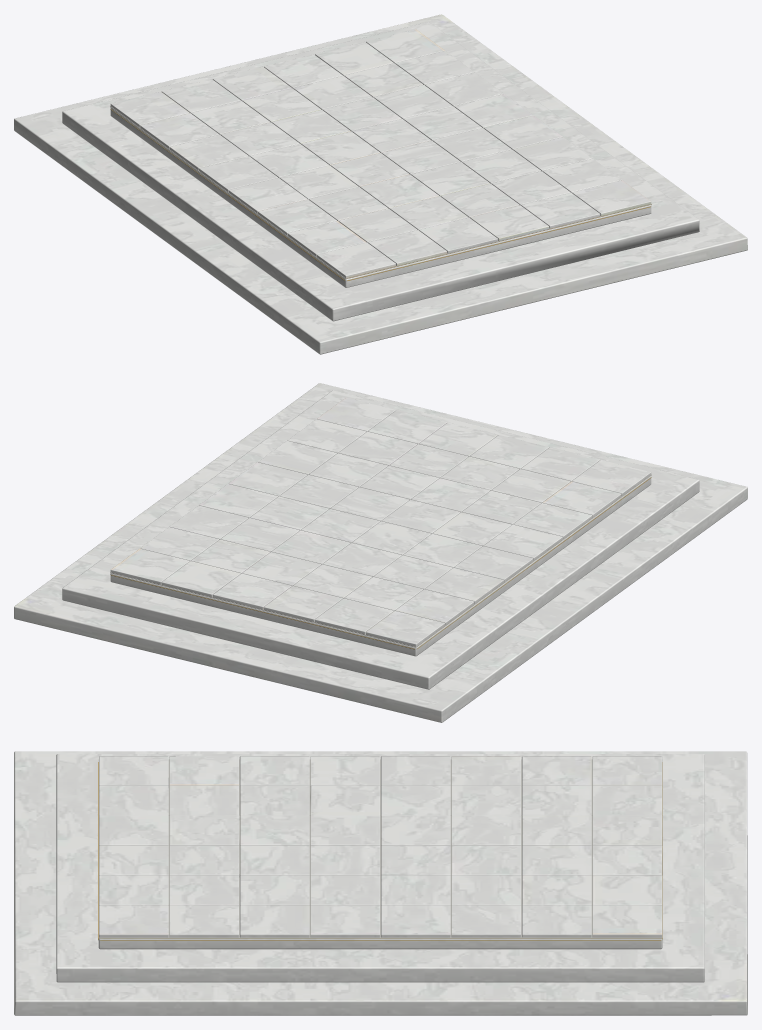
The model's file is temple_platform.glb.
The picture shows the model from 3 angles, top to bottom: view 1: azimuth 30°, elevation 25°; view 2: azimuth 150°, elevation 25°; view 3: azimuth 270°, elevation 25°; orthographic projection. The views are drawn at different scales.
Visible parts, largest first — view 1: Temple Platform • three continuous steps and square paving; view 2: Temple Platform • three continuous steps and square paving; view 3: Temple Platform • three continuous steps and square paving.
Boxes of the visible parts, box(x1,y1,x2,y2) form: Temple Platform • three continuous steps and square paving: box(14, 14, 747, 354); Temple Platform • three continuous steps and square paving: box(14, 383, 747, 722); Temple Platform • three continuous steps and square paving: box(14, 751, 747, 1015).
Bounding box in the file's own units: 8.4 × 0.72 × 10.41.
Materials: 3 (3 with a texture image).
